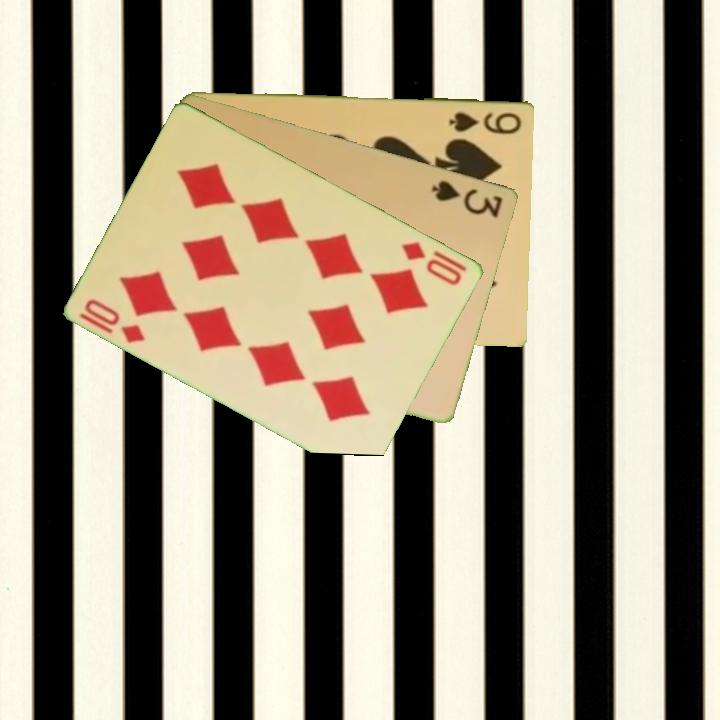10d: (81, 295, 149, 346), (399, 238, 465, 288)
3s: (428, 176, 506, 221)
9s: (445, 108, 525, 137)
